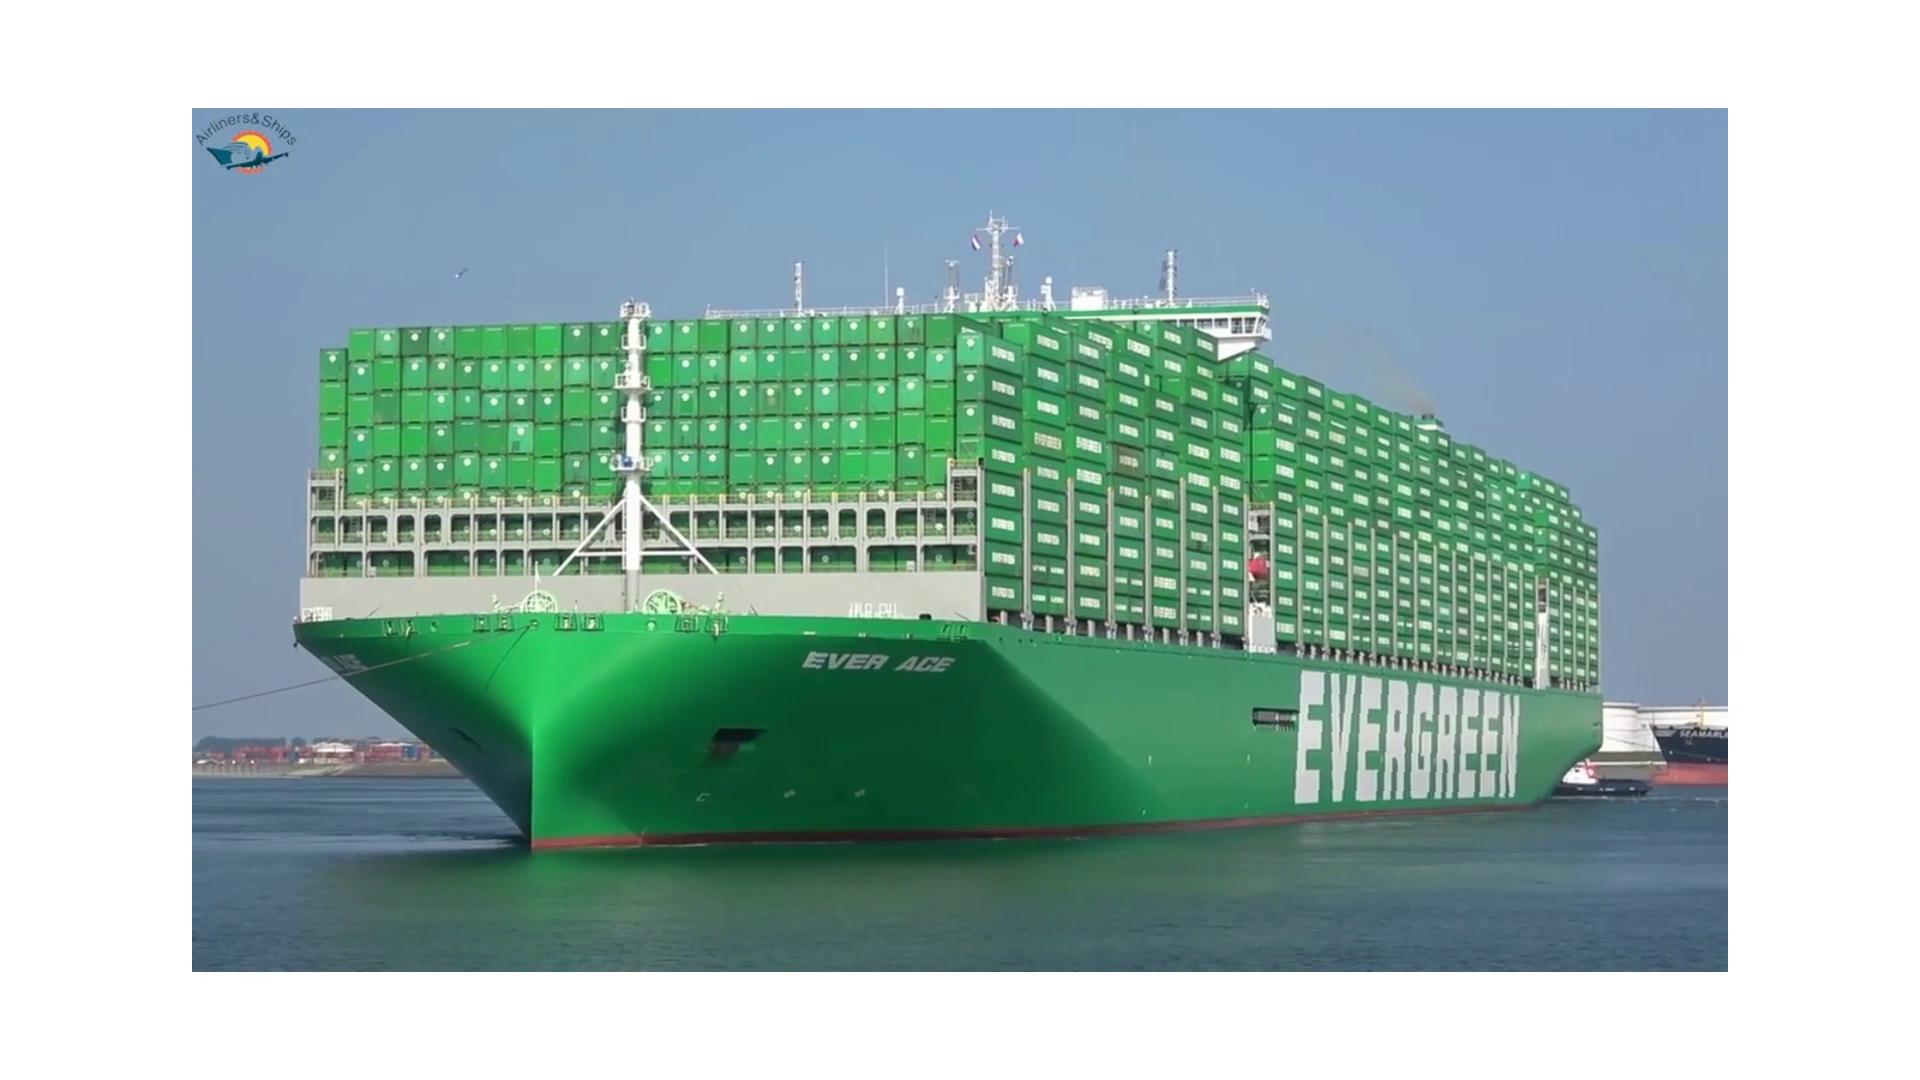OCR: (1266, 644, 1548, 815), (782, 634, 960, 684)
